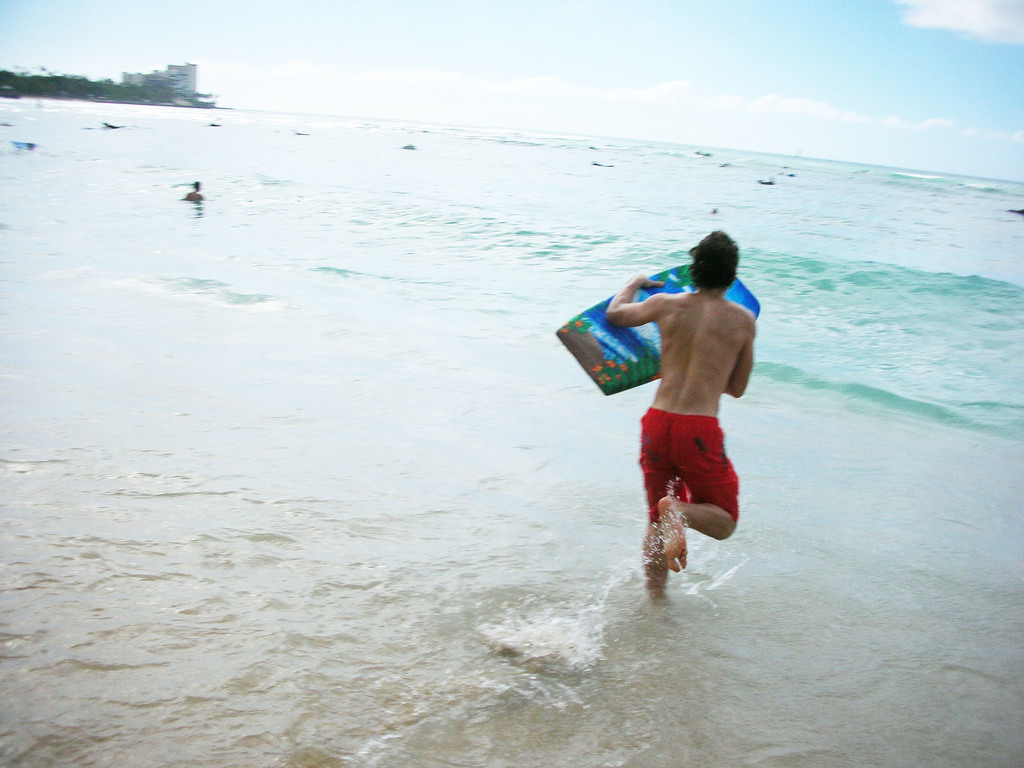Human_hand: (627, 270, 666, 291)
